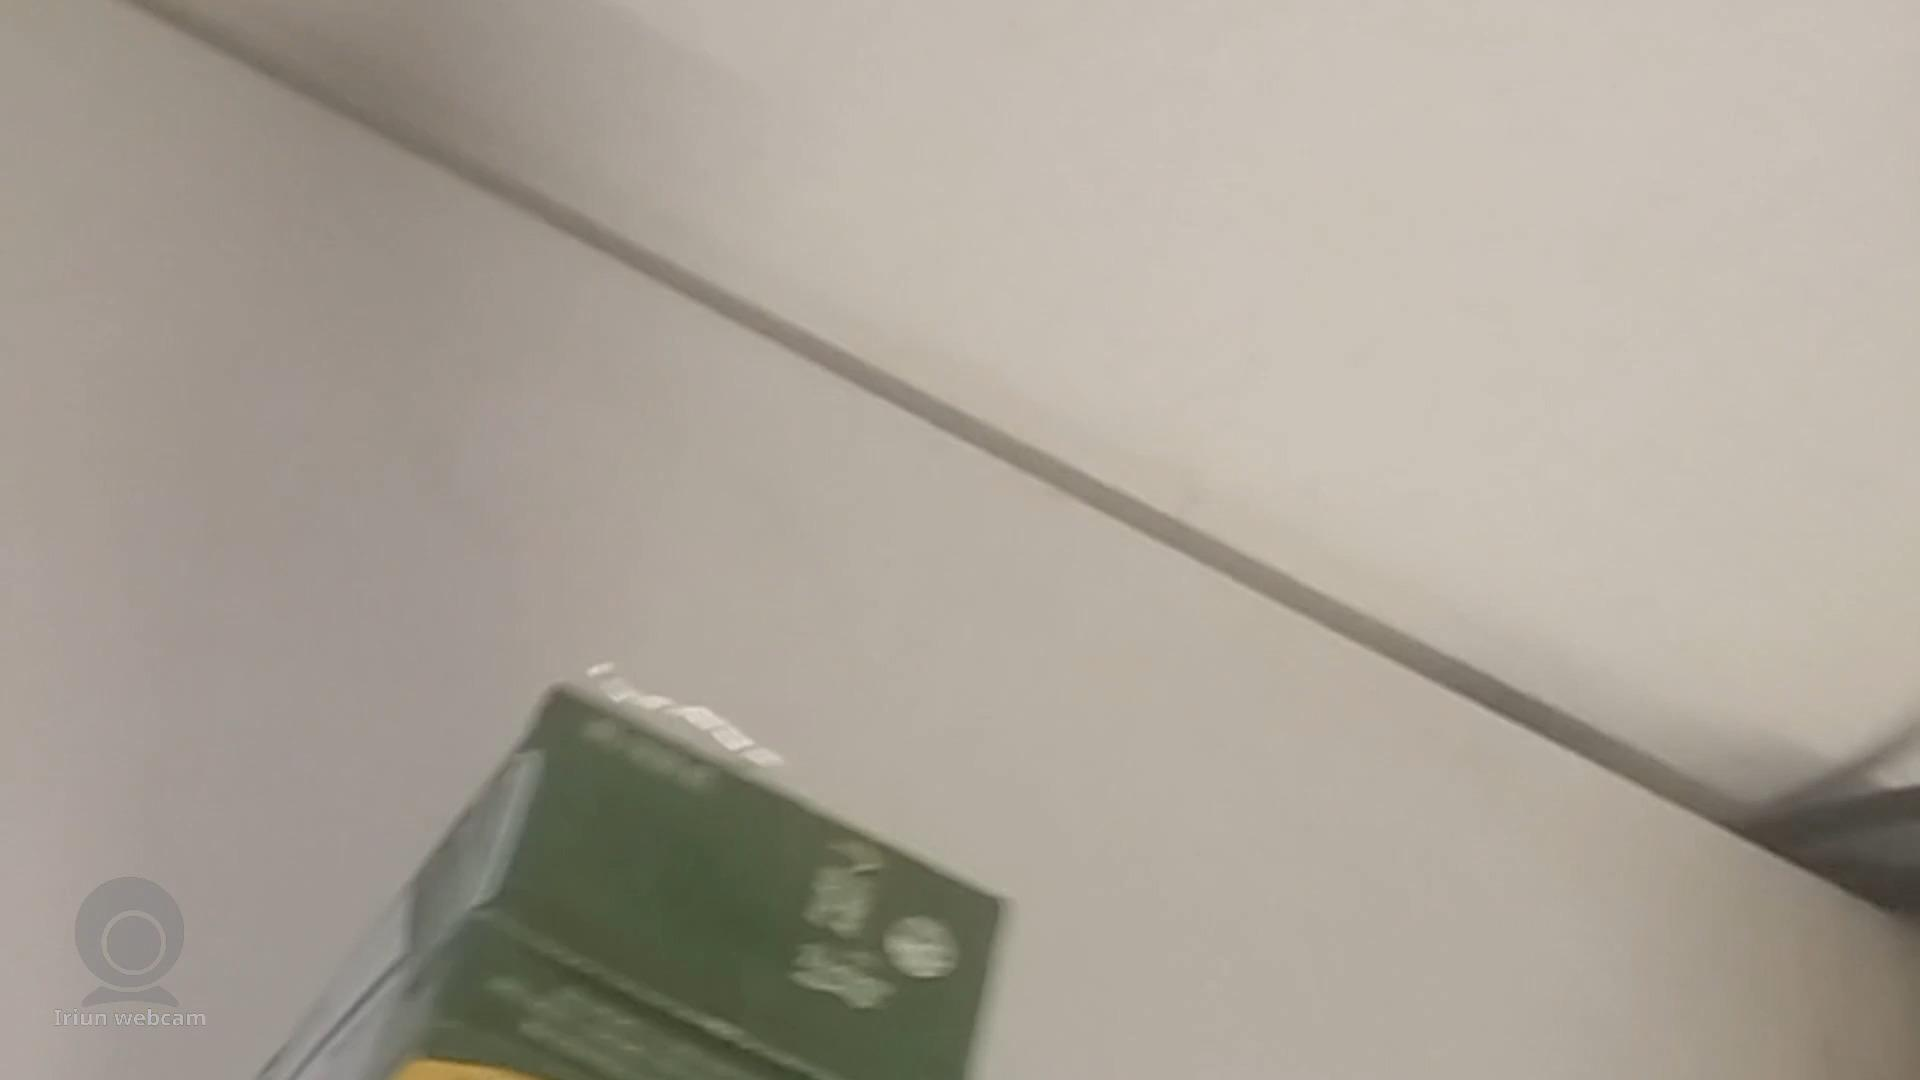coco: (232, 678, 1025, 1080)
